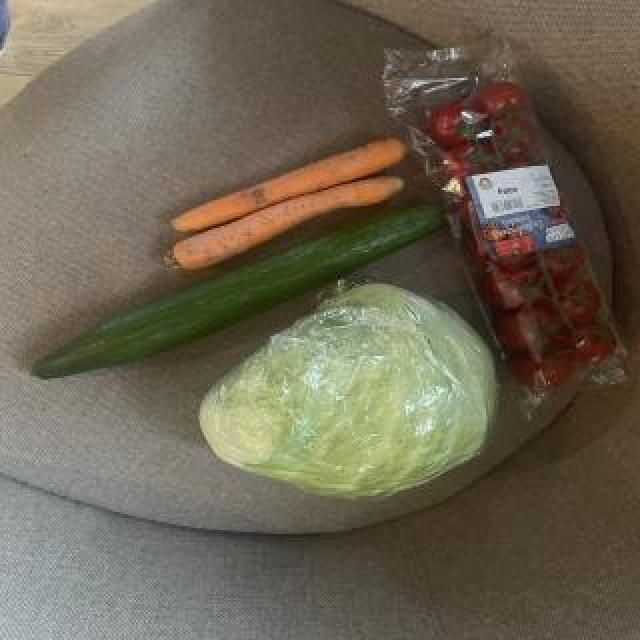Tomato: (470, 70, 544, 128), (426, 92, 486, 152)
